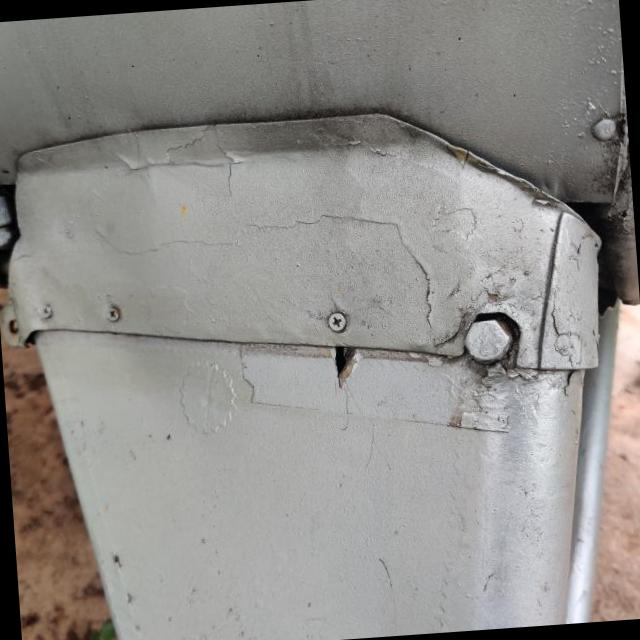Crack: (333, 345, 359, 385)
